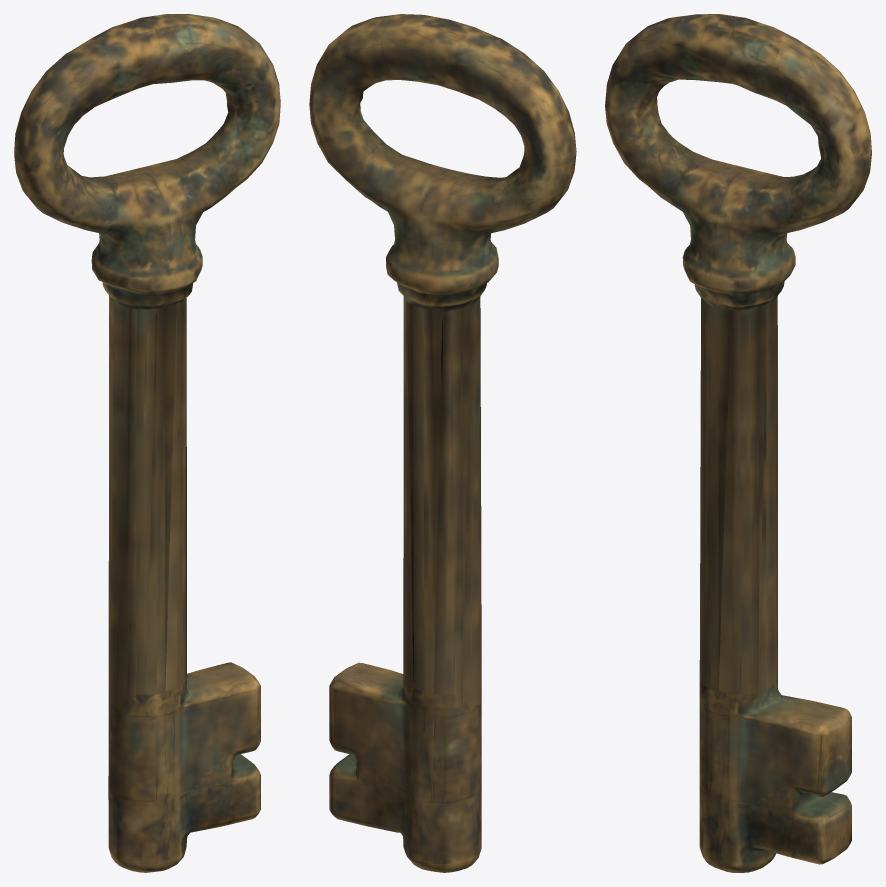
The model's file is item-41.gltf.
3 views of the same model, side by side, from view 1: azimuth 30°, elevation 25°; view 2: azimuth 150°, elevation 25°; view 3: azimuth 330°, elevation 25° (orthographic).
Parts seen in each view (by area): view 1: key_shared_7_smudged_41_prison__exp; view 2: key_shared_7_smudged_41_prison__exp; view 3: key_shared_7_smudged_41_prison__exp.
Part boxes in pixels (box(x1,y1,x2,y2)): key_shared_7_smudged_41_prison__exp: box(14, 14, 280, 872); key_shared_7_smudged_41_prison__exp: box(309, 14, 576, 872); key_shared_7_smudged_41_prison__exp: box(605, 14, 871, 872).
Size of the model in its own units: 0.3424 by 1.07 by 0.1314.
Materials: 1 (1 with a texture image).
